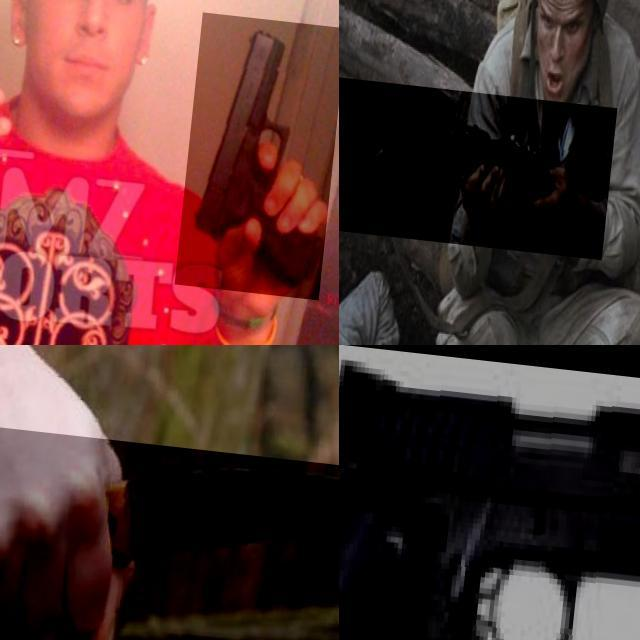-: (0, 414, 339, 640)
gun-knife-thesis - v11 Yolov5 augmented: (339, 345, 640, 640), (339, 65, 622, 249), (183, 2, 339, 286)
